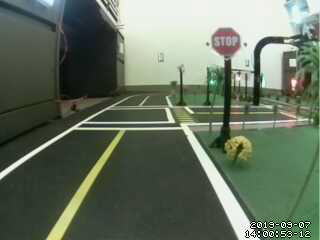Stop_Sign: (207, 27, 254, 63)
